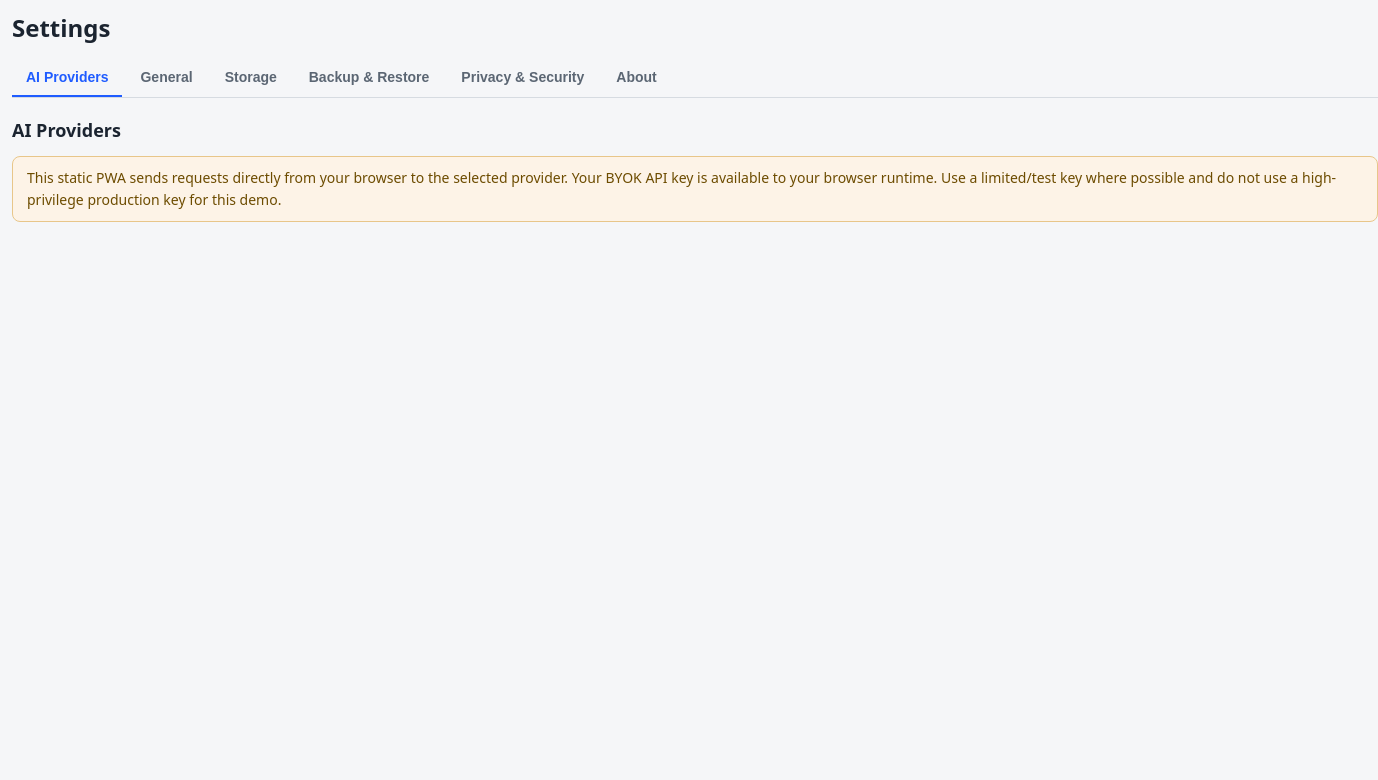
Test: SettingsHubPage › Storage tab clear can be cancelled without deleting data
The image size is (1378, 780).
Click the tab "Storage" at point(251, 78), box x1=211 y1=59 x2=291 y2=97
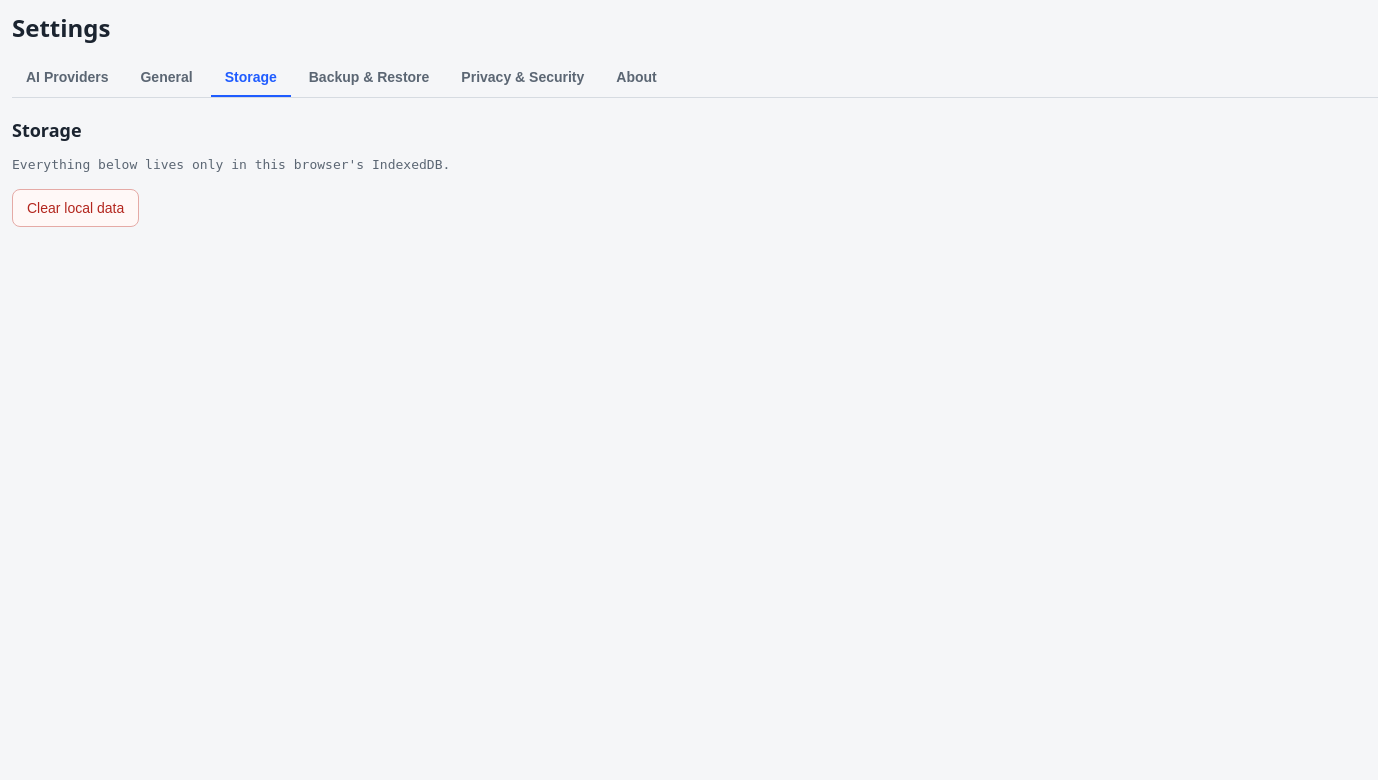
Click the button "Clear local data" at point(76, 208), box x1=12 y1=189 x2=139 y2=227
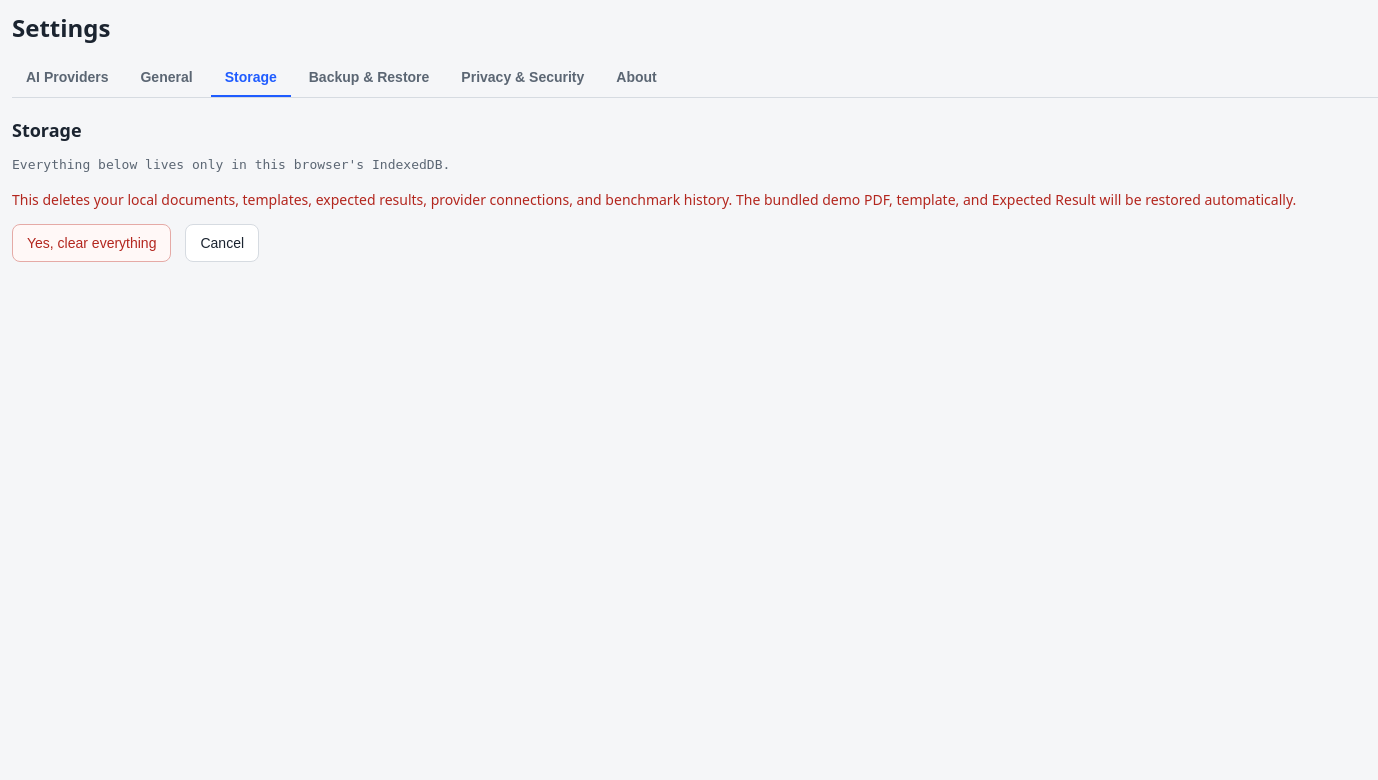
Click the button "Cancel" at point(222, 243), box x1=186 y1=224 x2=259 y2=262
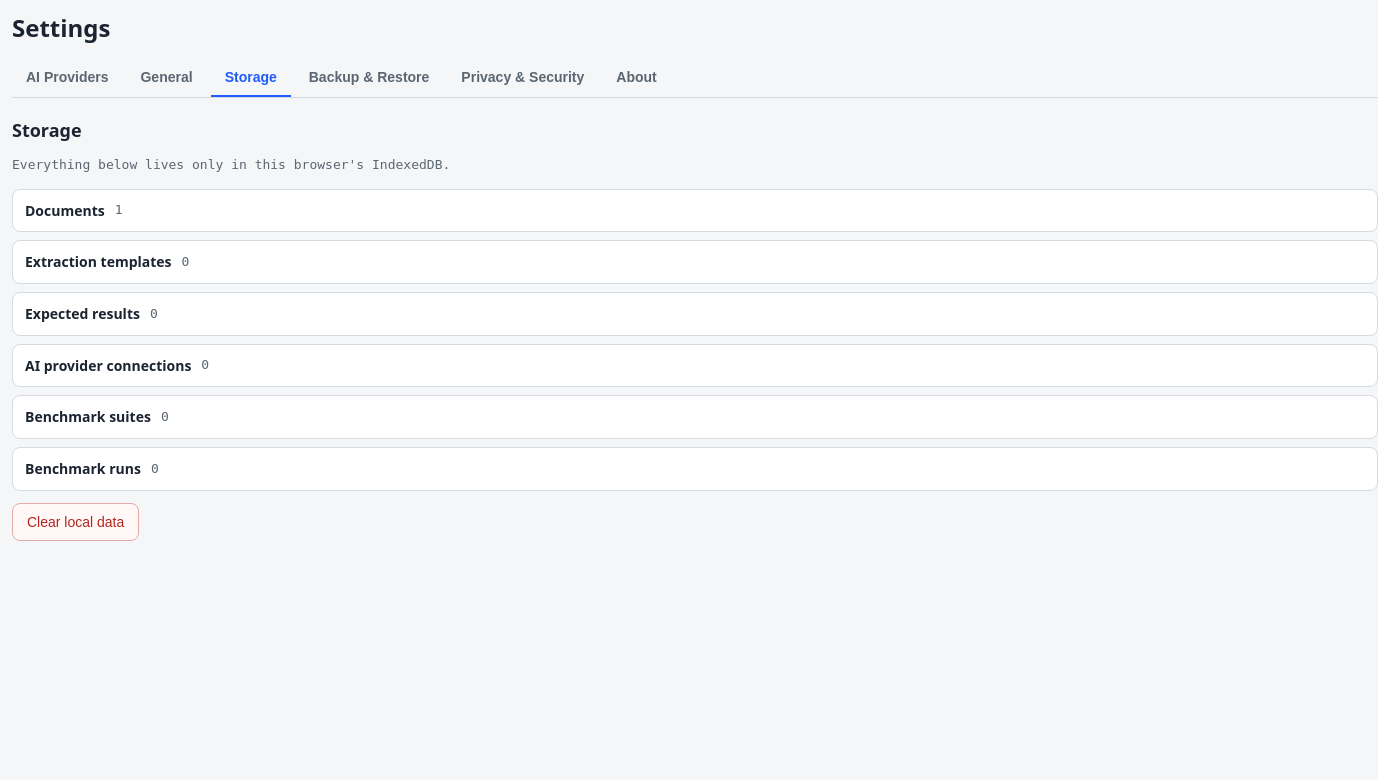
Expected: the button "Clear local data" is shown, x1=12 y1=503 x2=139 y2=541
